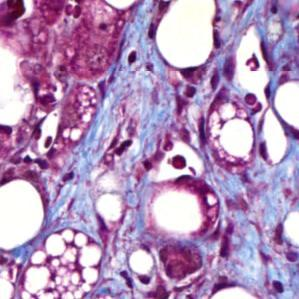steatosis: (0, 178, 45, 251), (219, 118, 256, 159)
